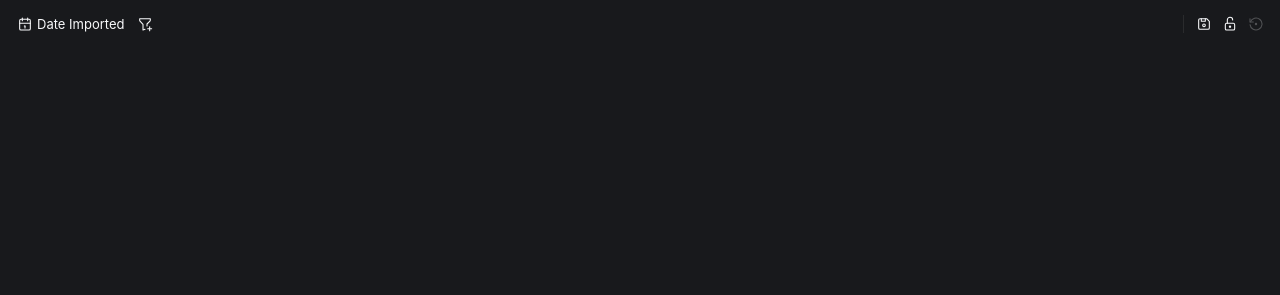
GridFilterToolbar › uses the shared calendar picker for custom date ranges
What coordinates should you click on to do the following:
click the button "Date Imported"
I would click on:
 (72, 24)
Its box is [12,12,132,36].
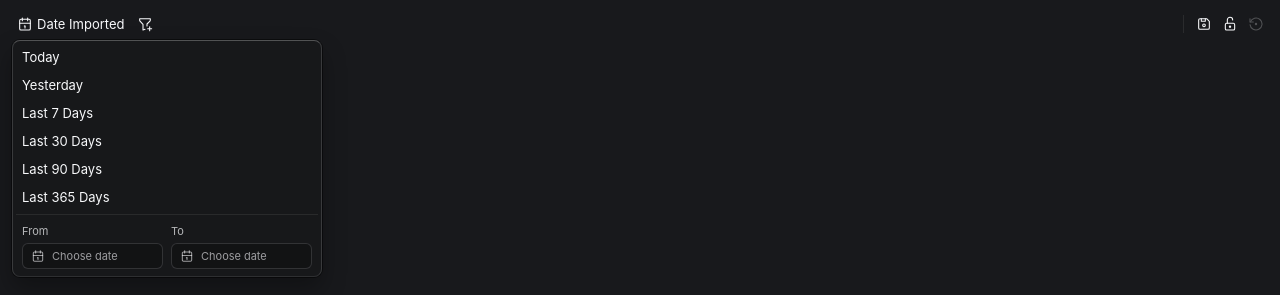
Check: the button with aria-label "From" is shown, box [22,243,163,269]
Check: the button with aria-label "To" is shown, box [171,243,312,269]
